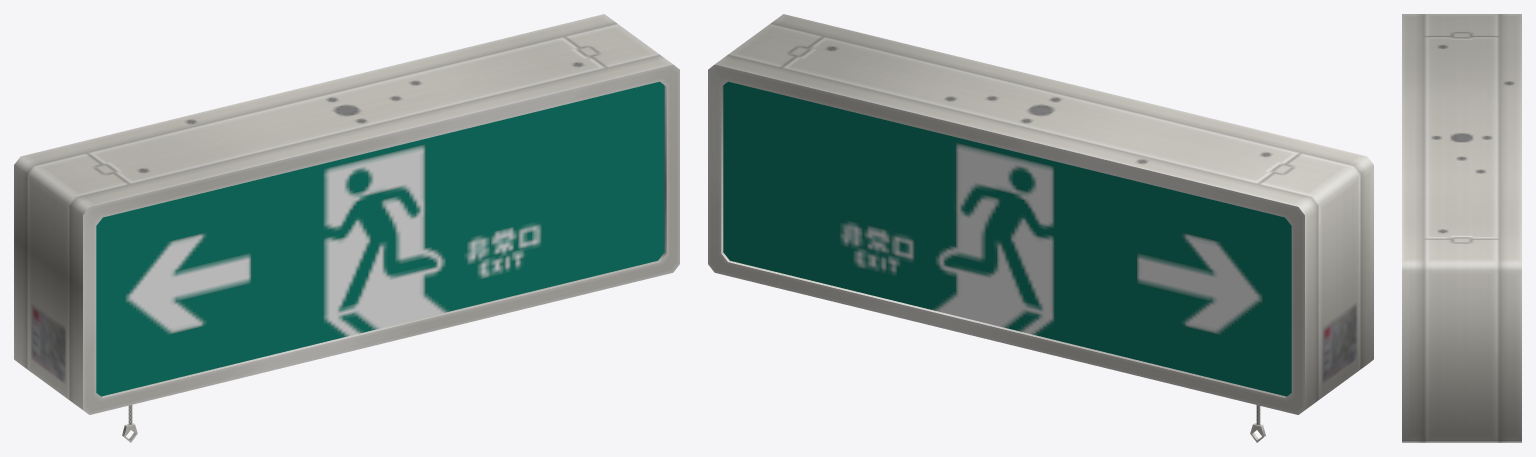
File: SHW_Exitlight_01_08.fbx
The picture shows the model from 3 angles, left to right: view 1: azimuth 30°, elevation 25°; view 2: azimuth 150°, elevation 25°; view 3: azimuth 270°, elevation 25°; orthographic projection. The views are drawn at different scales.
Parts seen in each view (by area): view 1: shw_exitlight_01_08; view 2: shw_exitlight_01_08; view 3: shw_exitlight_01_08.
Boxes of the visible parts, left/top/right/bottom form: shw_exitlight_01_08: left=14, top=14, right=679, bottom=442; shw_exitlight_01_08: left=708, top=14, right=1373, bottom=442; shw_exitlight_01_08: left=1402, top=14, right=1521, bottom=442.
Bounding box in the file's own units: 90 × 40.17 × 18.
